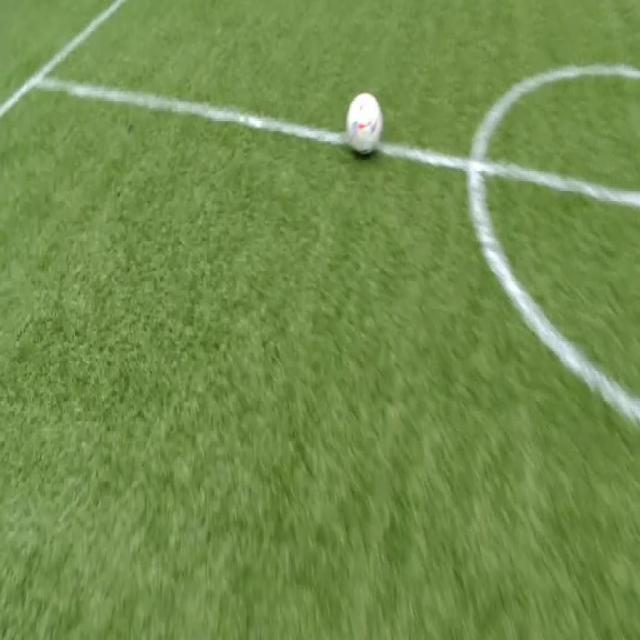ball: (346, 94, 383, 154)
